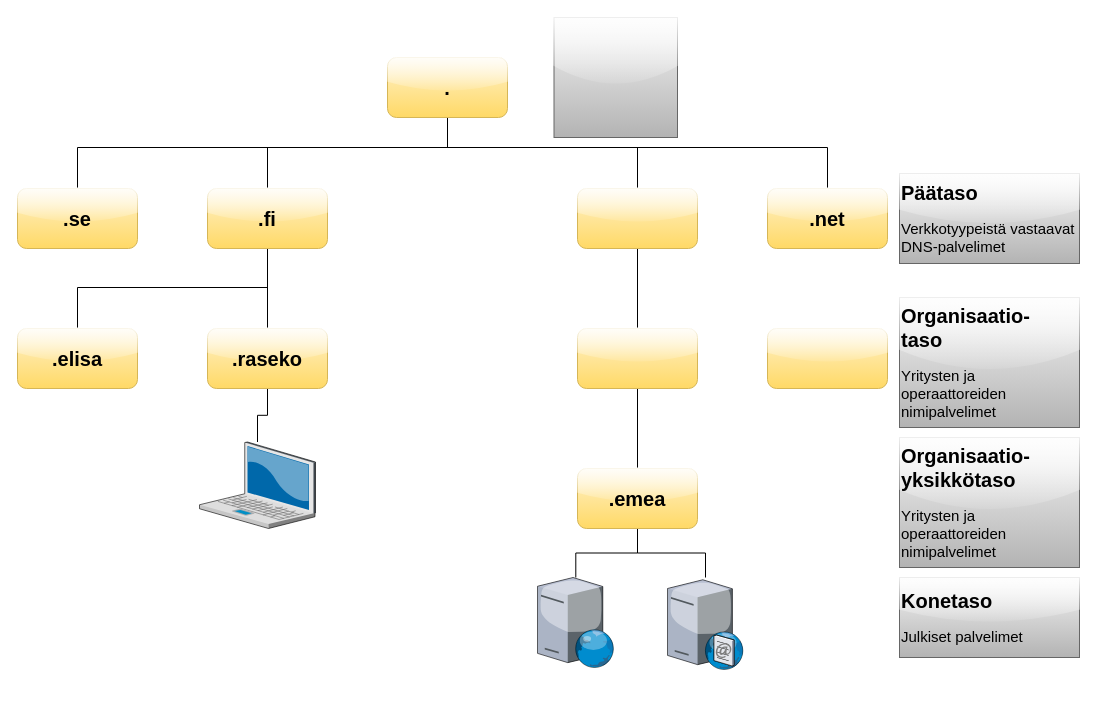
This 1097x718 diagram has some shape labels left out. The shapes that lost their labels are listed below. From the top down, each one's centre as x and y in pixels, then its label:
At (615,77): "Juuri 13 kpl DNS-palvelimia a.rootservers.net - m.rootservers.net".
At (637,218): ".com".
At (637,358): ".ibm".
At (827,358): ".nordunet".
At (575,622): "www".
At (705,623): "mail".
